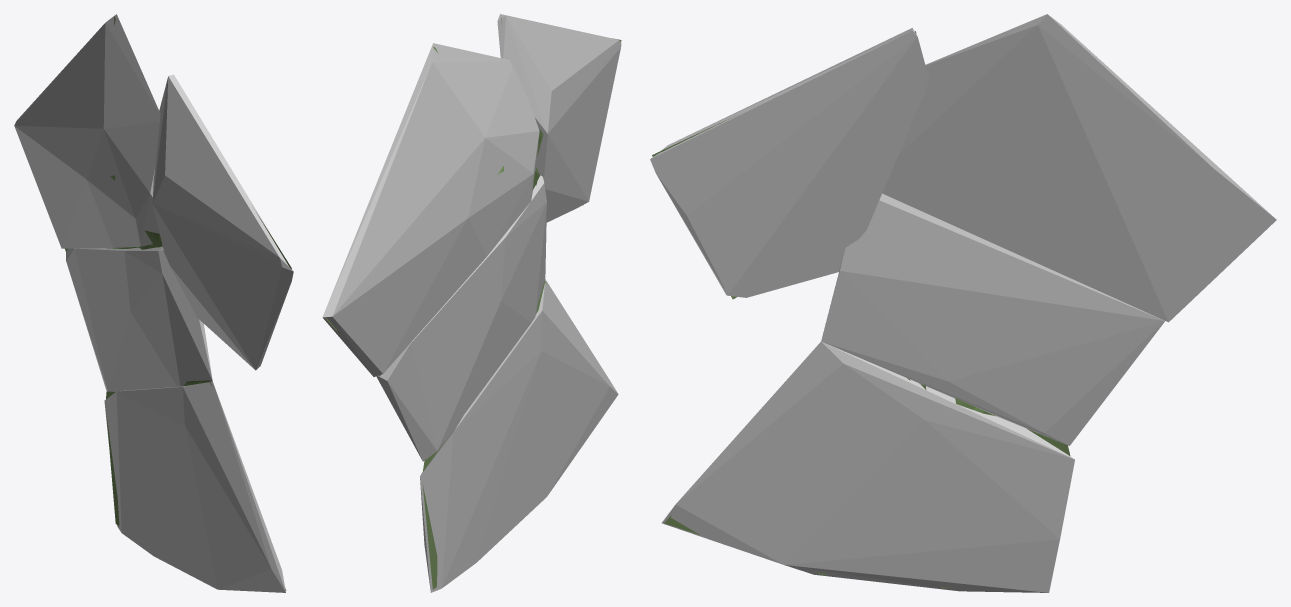
File: SM_Env_Leaves_Preset_02.fbx
3 renders of one model, left to right at view 1: azimuth 30°, elevation 25°; view 2: azimuth 150°, elevation 25°; view 3: azimuth 270°, elevation 25°, orthographic. The views are drawn at different scales.
Visible parts, largest first — view 1: SM_Env_Leaves_Preset_02_ConvexHulls, SM_Env_Leaves_Preset_02; view 2: SM_Env_Leaves_Preset_02_ConvexHulls, SM_Env_Leaves_Preset_02; view 3: SM_Env_Leaves_Preset_02_ConvexHulls, SM_Env_Leaves_Preset_02.
Part boxes in pixels (x1,y1,x2,y2): SM_Env_Leaves_Preset_02_ConvexHulls: (14, 14, 293, 592); SM_Env_Leaves_Preset_02: (65, 16, 291, 590); SM_Env_Leaves_Preset_02_ConvexHulls: (322, 14, 621, 592); SM_Env_Leaves_Preset_02: (326, 17, 621, 589); SM_Env_Leaves_Preset_02_ConvexHulls: (650, 14, 1276, 592); SM_Env_Leaves_Preset_02: (652, 31, 1070, 587).
Bounding box in the file's own units: 24.77 × 299 × 304.
Materials: 2 (1 with a texture image).
